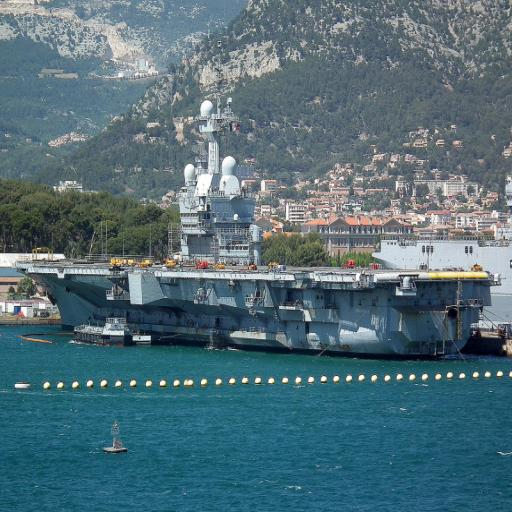Portanaves: (13, 79, 499, 362)
